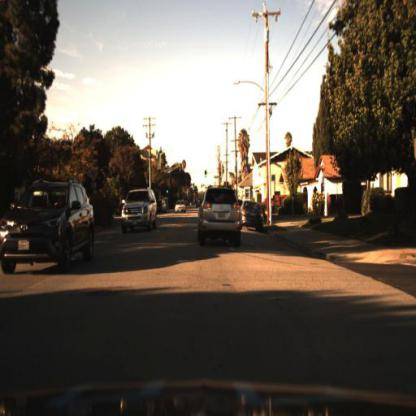car: (0, 178, 96, 274), (194, 176, 247, 251), (116, 182, 163, 237), (238, 191, 263, 233), (172, 198, 187, 216)
trafficLight-Green: (203, 168, 209, 181)
